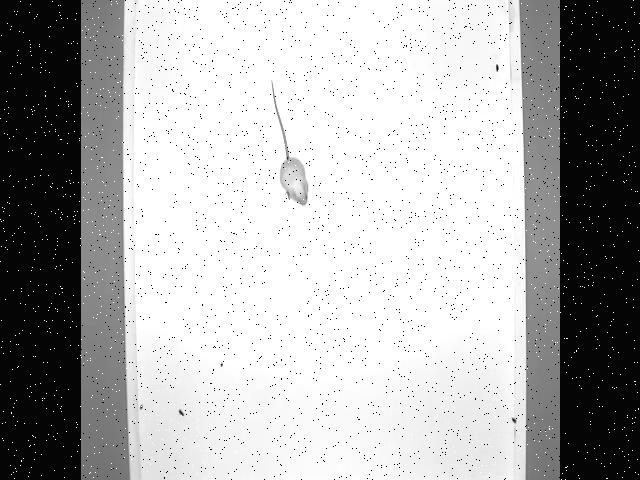Tikus: (268, 79, 310, 205)
